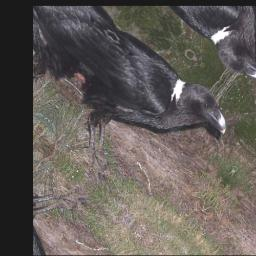Crow: (37, 17, 239, 231)
